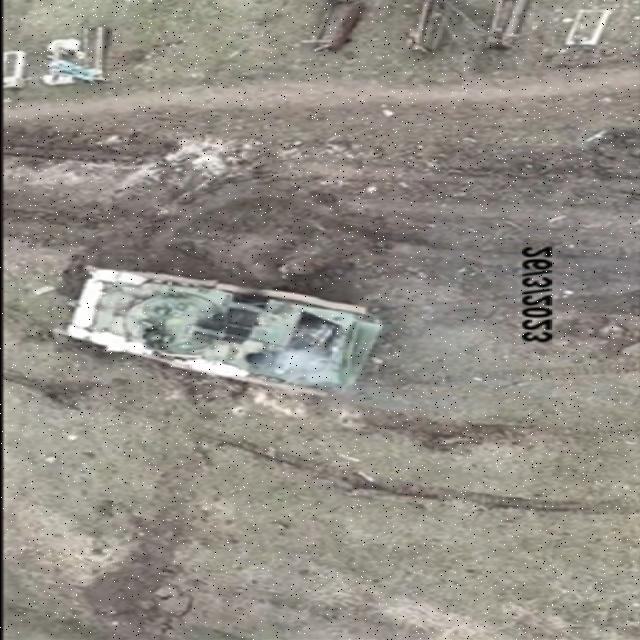APC-IFV: (58, 260, 392, 401)
